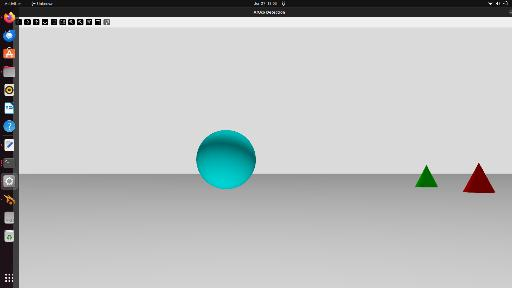green_cone: (415, 164, 438, 188)
red_cone: (463, 162, 496, 194)
